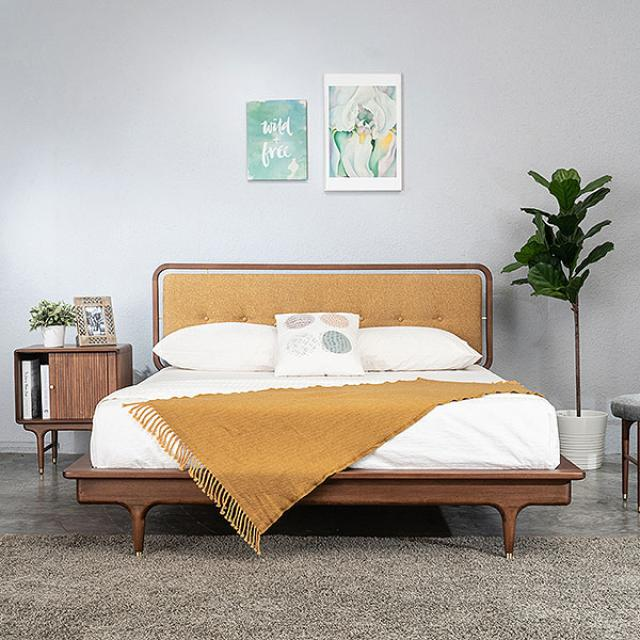bed vintage: (58, 251, 590, 554)
